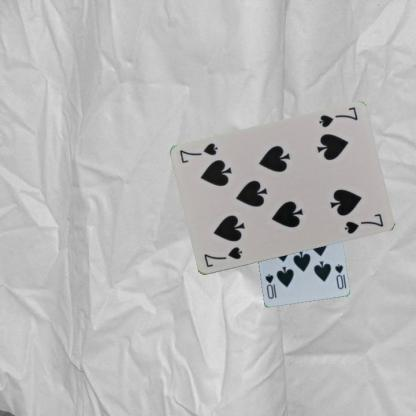10s: (333, 261, 344, 290)
7s: (201, 245, 244, 270), (316, 104, 359, 129)
